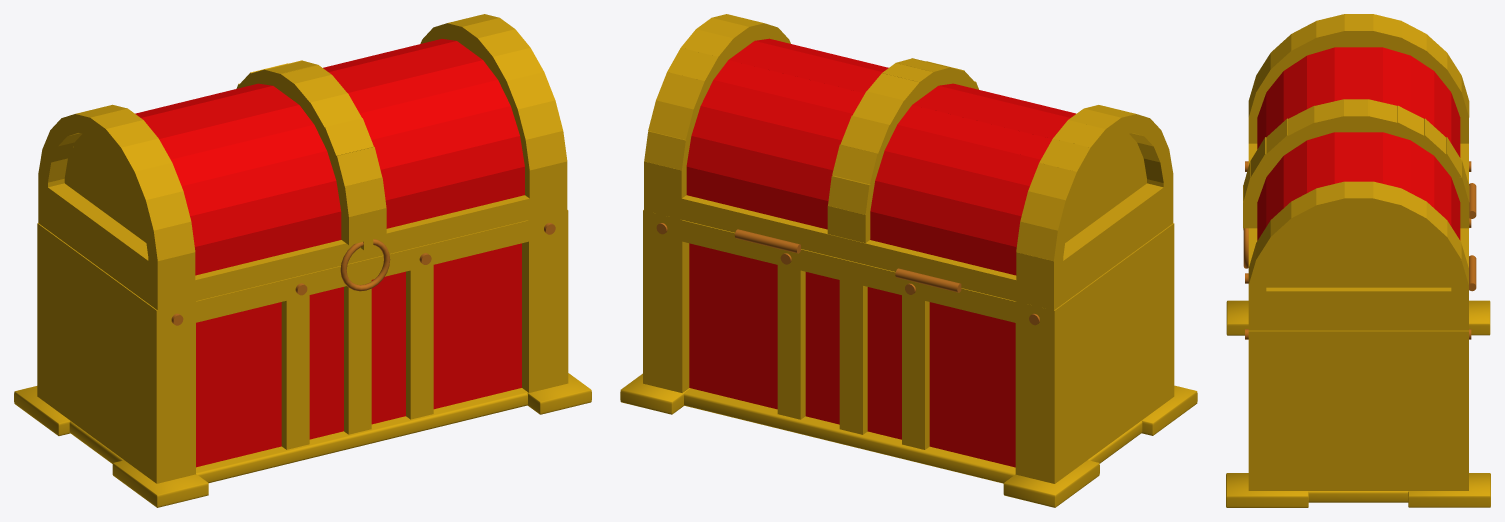
Rendered from baoxiang.fbx.
The picture shows the model from 3 angles, left to right: view 1: azimuth 30°, elevation 25°; view 2: azimuth 150°, elevation 25°; view 3: azimuth 270°, elevation 25°; orthographic projection. The views are drawn at different scales.
Parts seen in each view (by area): view 1: Box004, Box001, Box018, Box016, Box019, Box015, Box014, Box002, Box020, Box005, Box017, ChamferBox001 (+34 smaller); view 2: Box003, Box001, Box022, Box023, Box021, Box025, Box013, Box002, Box020, Box024, ChamferBox001, Box006 (+36 smaller); view 3: Box002, Box066, Box068, Box020, Box024, Box017, Box069, Box021, Box019, Box022, ChamferBox002, ChamferBox003 (+44 smaller).
Part boxes in pixels (<box>): Box004: <box>196,243,521,467</box>; Box001: <box>37,223,195,483</box>; Box018: <box>182,106,519,216</box>; Box016: <box>190,136,524,246</box>; Box019: <box>171,80,510,185</box>; Box015: <box>195,166,524,275</box>; Box014: <box>195,195,529,301</box>; Box002: <box>522,210,568,392</box>; Box020: <box>141,41,482,138</box>; Box005: <box>195,220,529,322</box>; Box017: <box>159,60,497,159</box>; ChamferBox001: <box>69,388,527,482</box>; Box003: <box>689,243,1015,467</box>; Box001: <box>1015,223,1174,483</box>; Box022: <box>691,106,1029,216</box>; Box023: <box>686,136,1021,246</box>; Box021: <box>701,80,1040,186</box>; Box025: <box>686,166,1016,275</box>; Box013: <box>681,195,1016,301</box>; Box002: <box>643,210,689,392</box>; Box020: <box>729,41,1070,138</box>; Box024: <box>713,60,1052,159</box>; ChamferBox001: <box>684,388,1142,483</box>; Box006: <box>679,220,1017,322</box>; Box002: <box>1248,330,1468,490</box>; Box066: <box>1250,287,1465,330</box>; Box068: <box>1266,248,1451,287</box>; Box020: <box>1334,47,1382,183</box>; Box024: <box>1383,47,1410,192</box>; Box017: <box>1307,47,1334,192</box>; Box069: <box>1284,228,1433,248</box>; Box021: <box>1410,56,1434,207</box>; Box019: <box>1283,56,1306,207</box>; Box022: <box>1434,71,1451,225</box>; ChamferBox002: <box>1226,473,1308,507</box>; ChamferBox003: <box>1408,473,1490,507</box>.
Size of the model in its own units: 105 by 76.12 by 60.09.
